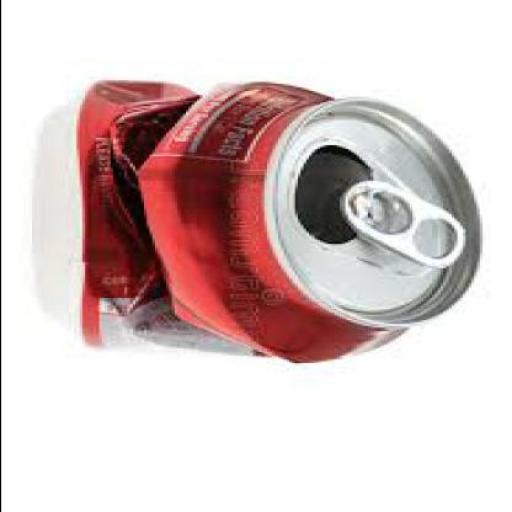metal: (34, 78, 484, 361)
